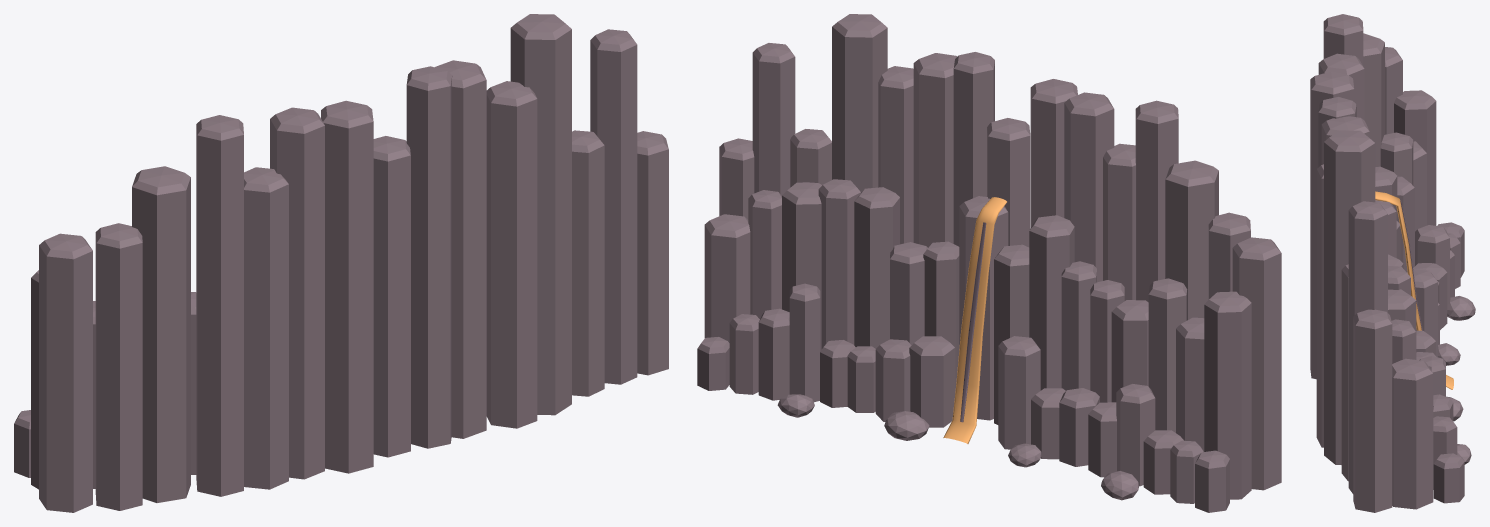
The model's file is BasaltWall.glb.
3 renders of one model, left to right at view 1: azimuth 30°, elevation 25°; view 2: azimuth 150°, elevation 25°; view 3: azimuth 270°, elevation 25°, orthographic. The views are drawn at different scales.
Parts seen in each view (by area): view 1: Rock; view 2: Rock, Lava, Crust; view 3: Rock, Lava, Crust.
Boxes of the visible parts, x1,y1,x2,y2 form: Rock: (14,14,668,512); Rock: (697,14,1281,512); Lava: (943,197,1006,443); Crust: (960,222,986,422); Rock: (1310,14,1475,512); Lava: (1375,191,1453,389); Crust: (1400,201,1422,330).
Bounding box in the file's own units: 98.25 × 59.24 × 27.2.
